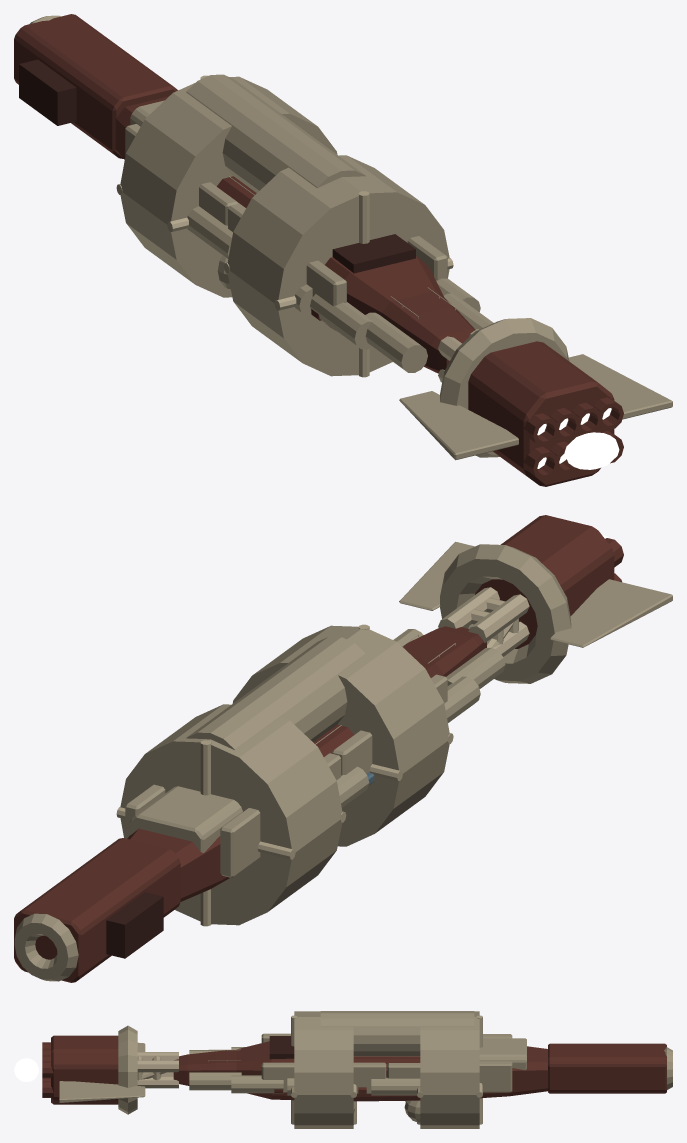
The picture shows the model from 3 angles, top to bottom: view 1: azimuth 30°, elevation 25°; view 2: azimuth 150°, elevation 25°; view 3: azimuth 270°, elevation 25°; orthographic projection. The views are drawn at different scales.
Visible parts, largest first — view 1: RIMWARD_HULL, RIMWARD_ENGINE_GLOW; view 2: RIMWARD_HULL; view 3: RIMWARD_HULL, RIMWARD_ENGINE_GLOW.
Boxes of the visible parts, x1,y1,x2,y2 form: RIMWARD_HULL: [14, 14, 672, 486]; RIMWARD_ENGINE_GLOW: [564, 432, 619, 469]; RIMWARD_HULL: [14, 515, 672, 982]; RIMWARD_HULL: [42, 1011, 672, 1128]; RIMWARD_ENGINE_GLOW: [14, 1058, 38, 1081].
Bounding box in the file's own units: 18 × 14.76 × 80.04.
